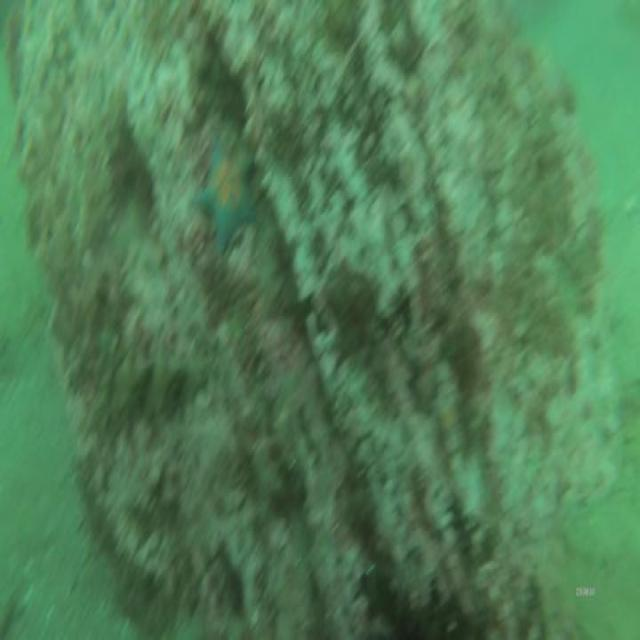holothurian: (73, 110, 113, 254)
starfish: (192, 131, 262, 255)
